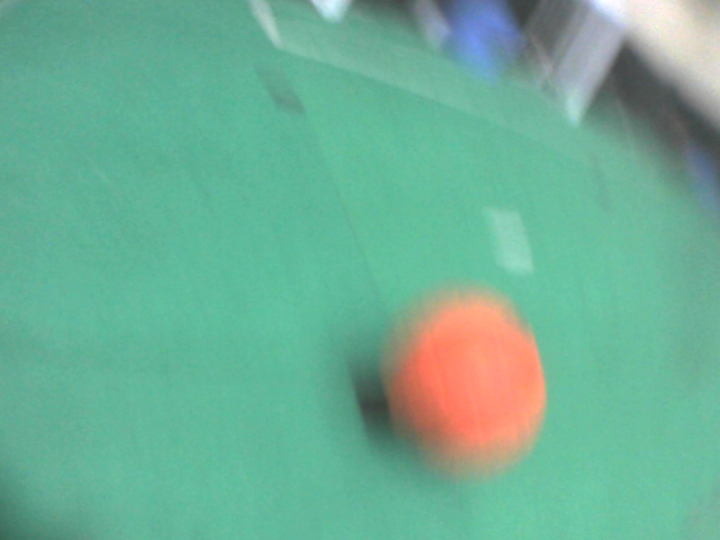bola: (370, 277, 560, 481)
